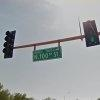Traffic light: (1, 25, 21, 68)
